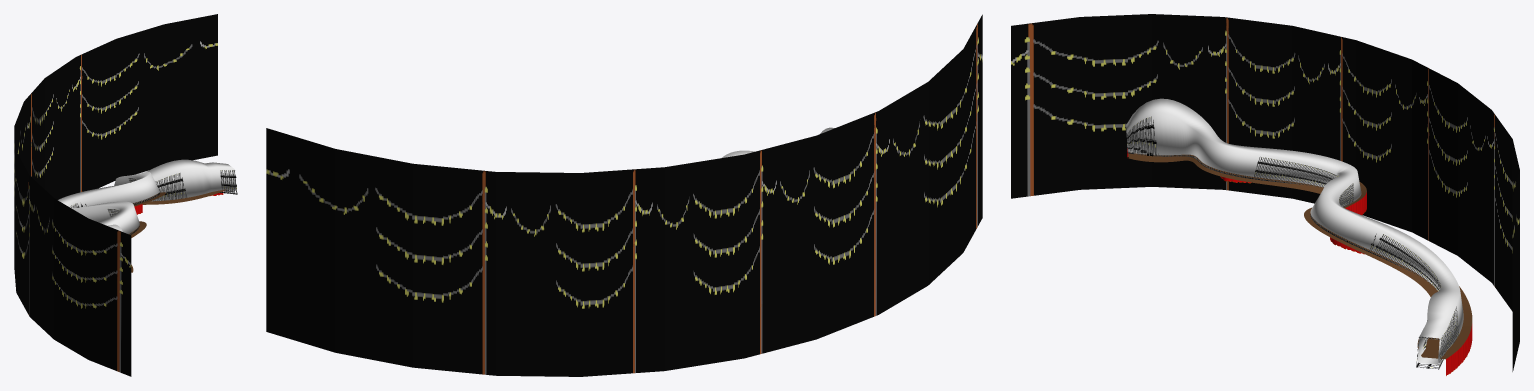
The model's file is Level3.fbx.
The picture shows the model from 3 angles, left to right: view 1: azimuth 30°, elevation 25°; view 2: azimuth 150°, elevation 25°; view 3: azimuth 270°, elevation 25°; orthographic projection. The views are drawn at different scales.
Parts seen in each view (by area): view 1: Decoration, WallPhysics, WallTexture, Ground; view 2: Decoration; view 3: Decoration, WallPhysics, WallTexture, Ground, GroundDecoration.
Boxes of the visible parts, x1,y1,x2,y2 form: Decoration: [14, 14, 217, 376]; WallPhysics: [58, 159, 236, 234]; WallTexture: [70, 170, 237, 234]; Ground: [129, 189, 226, 272]; Decoration: [266, 14, 982, 376]; Decoration: [1011, 14, 1519, 371]; WallPhysics: [1126, 98, 1463, 364]; WallTexture: [1126, 116, 1458, 369]; Ground: [1128, 153, 1472, 359]; GroundDecoration: [1127, 148, 1472, 375].
Size of the model in its own units: 12185 by 5883 by 14098.
